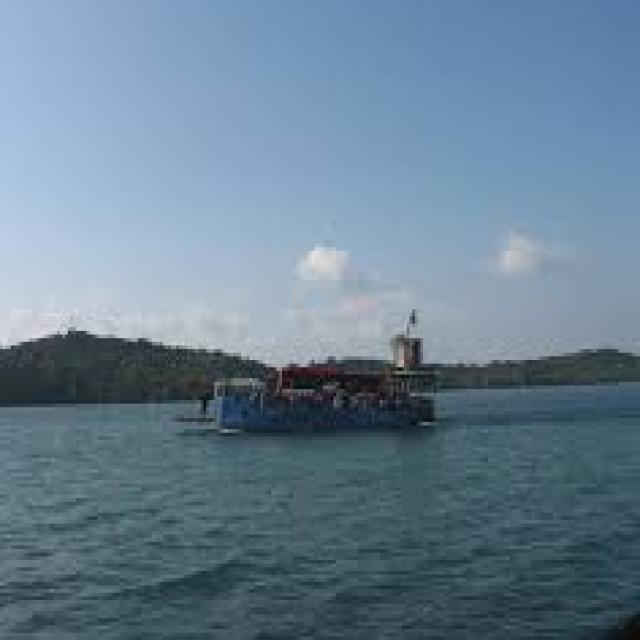fishing boat: (181, 292, 449, 442)
